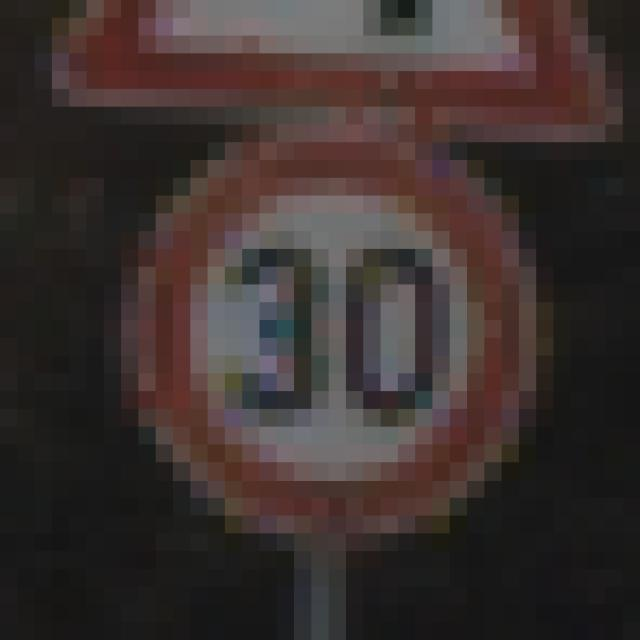Speed Limit -30-: (95, 80, 545, 524)
